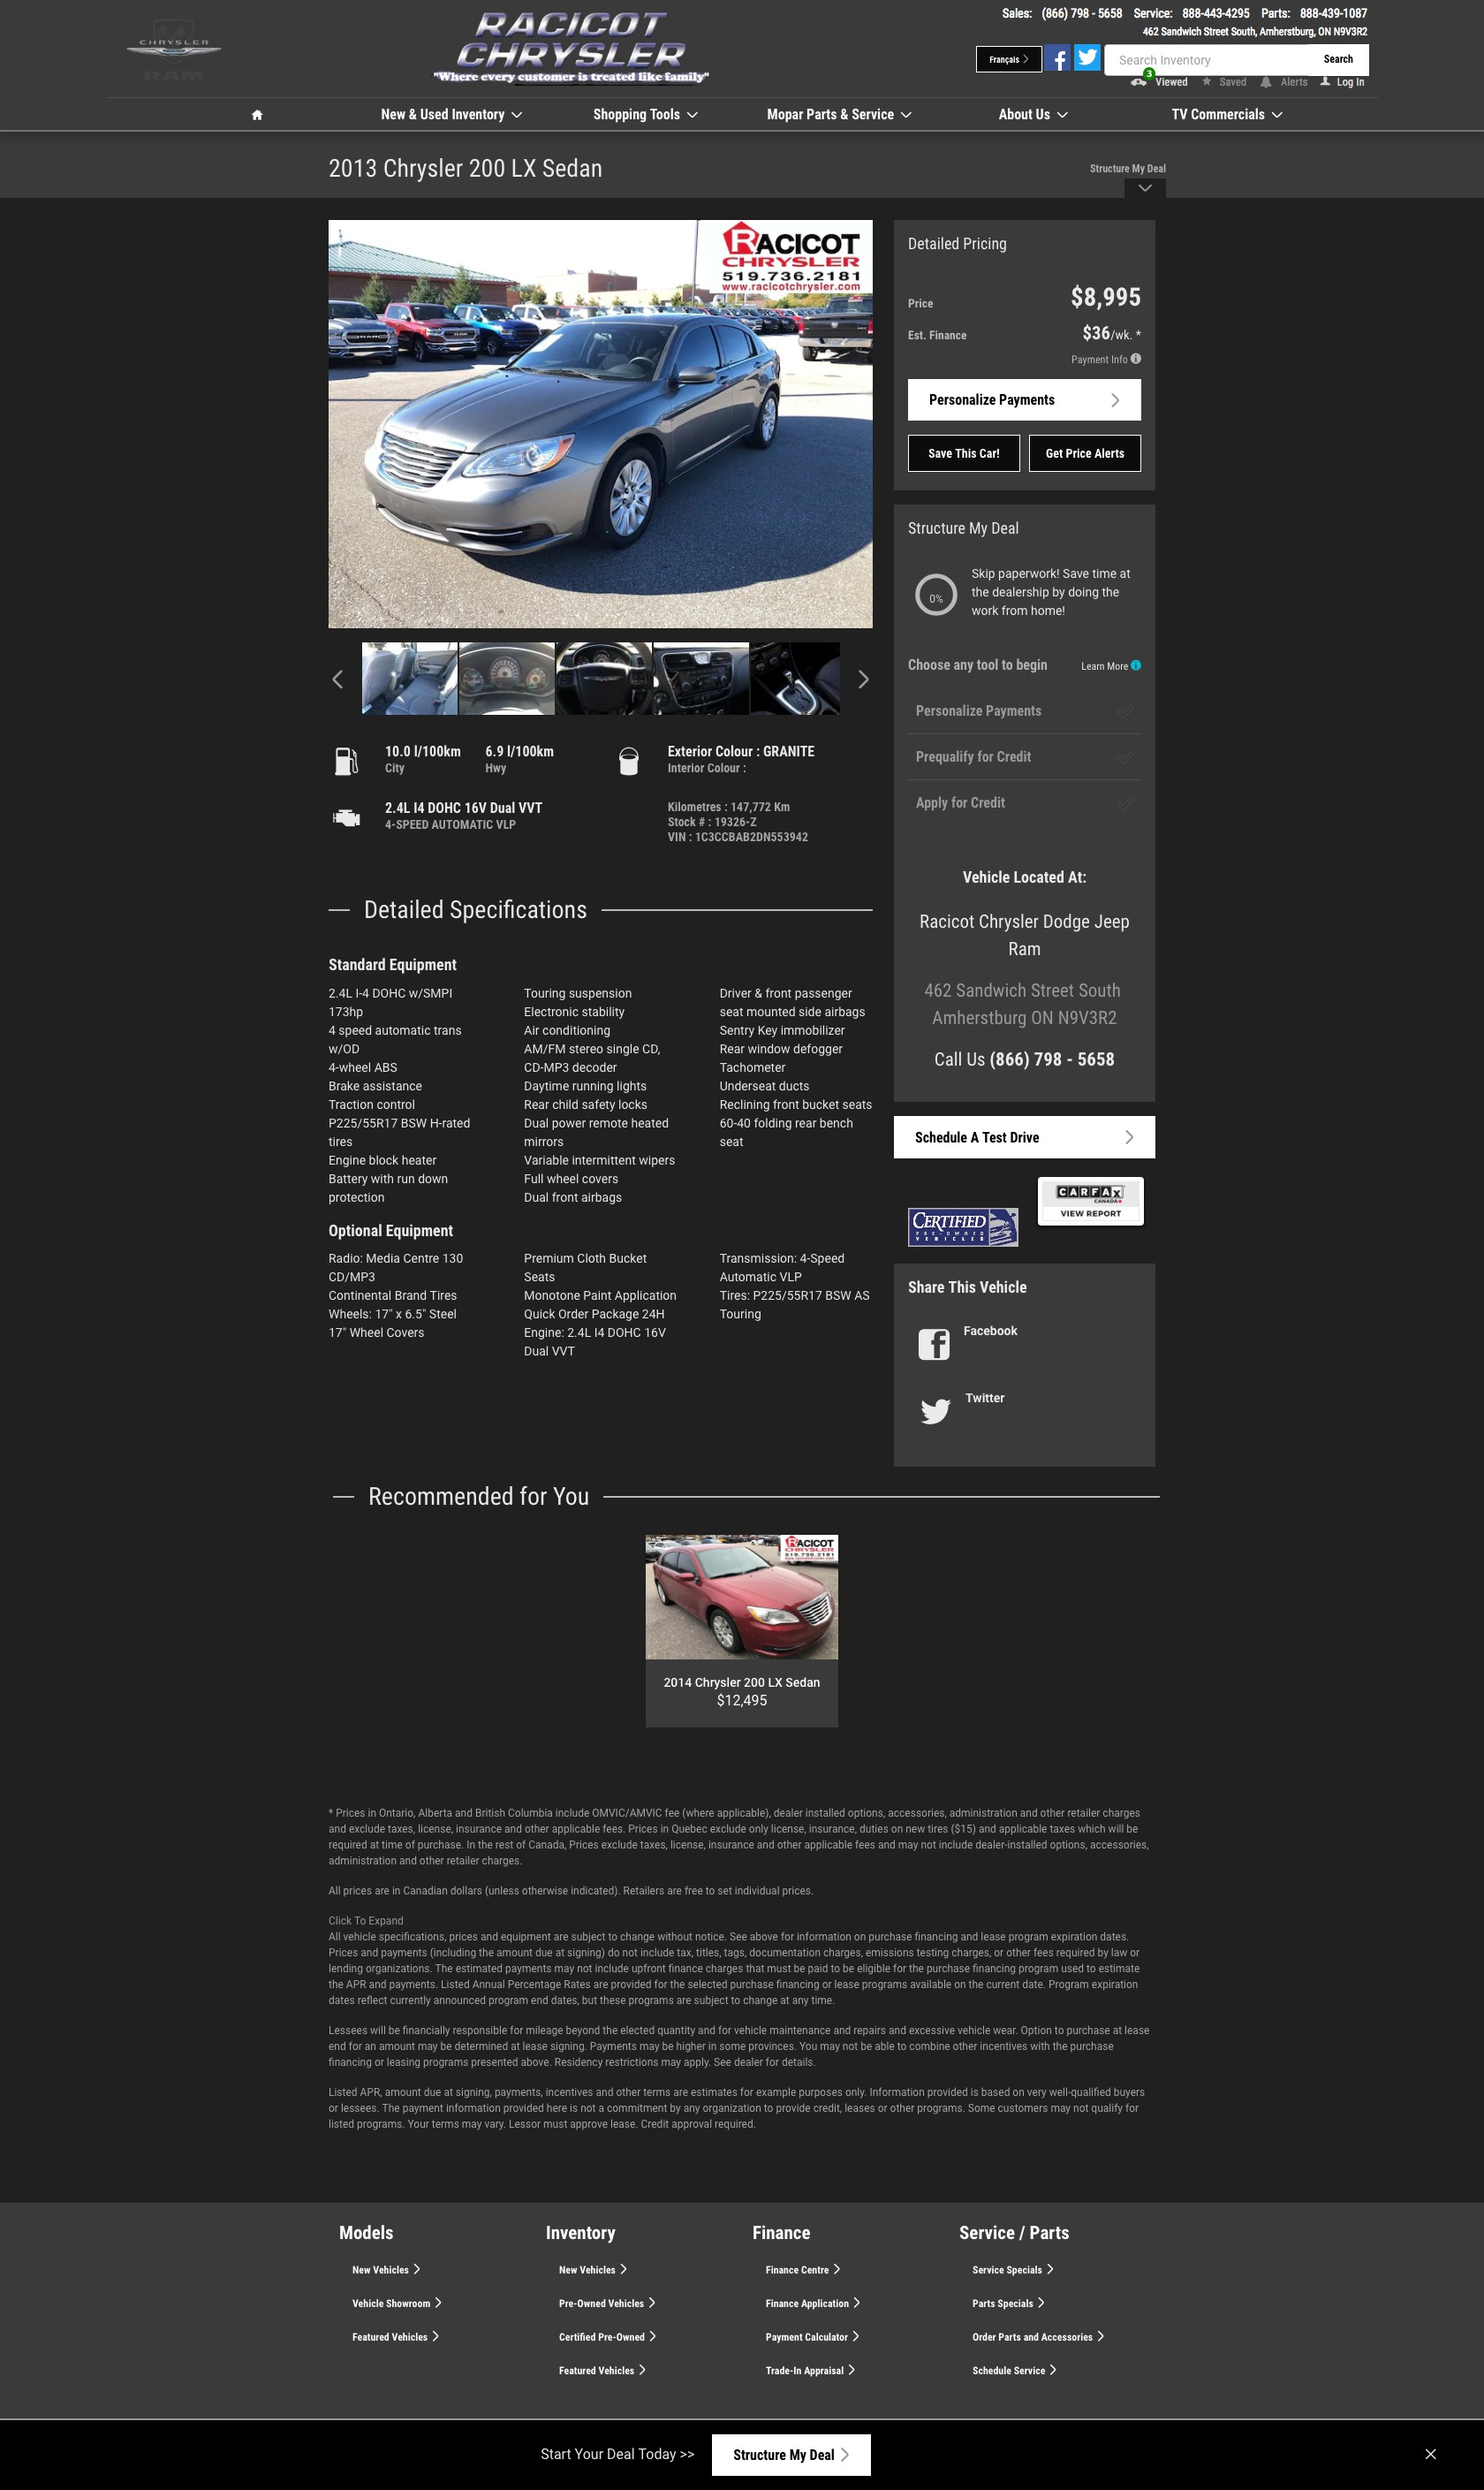car: (855, 670, 871, 695)
